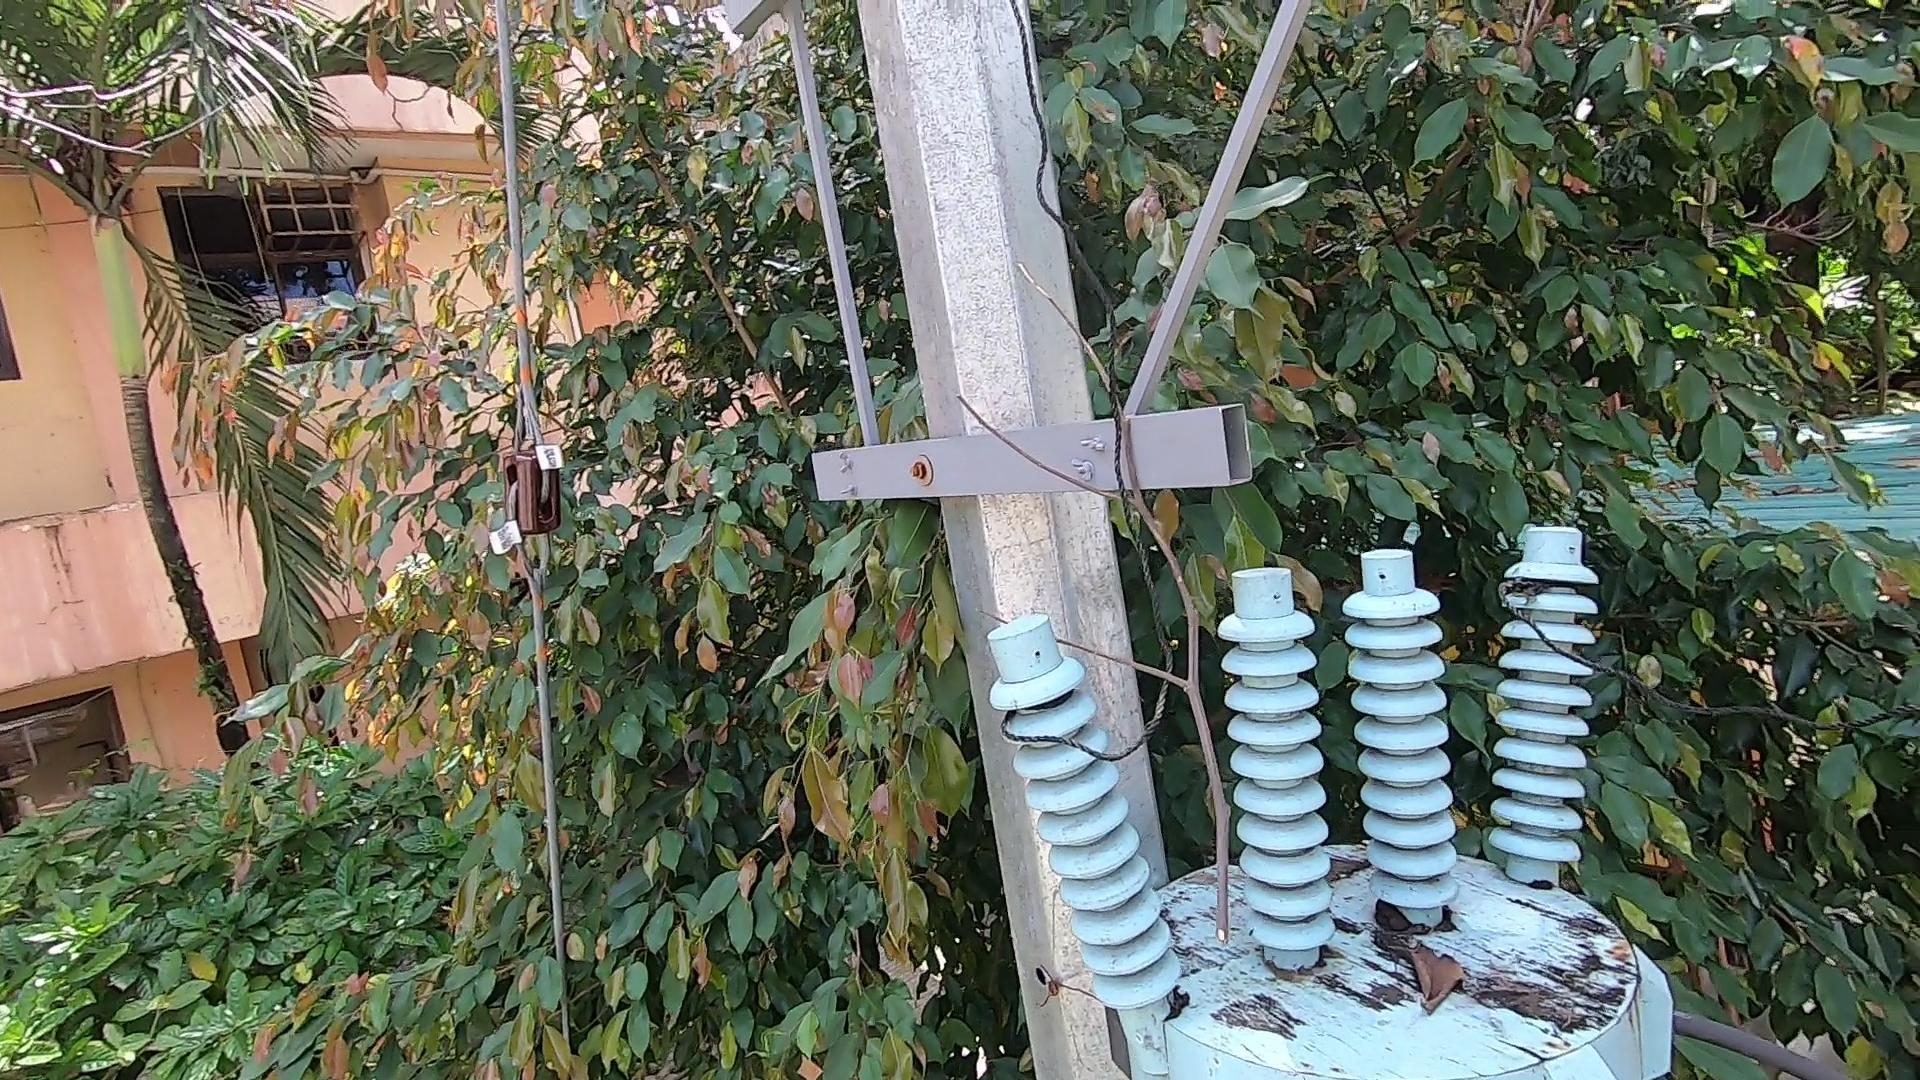leaf: (1406, 938, 1465, 1015), (1374, 893, 1424, 945)
tree branch: (952, 247, 1269, 944)
